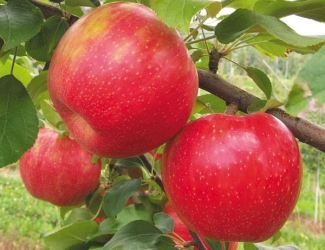apple: (45, 1, 200, 159), (161, 113, 305, 244), (16, 126, 102, 209)
